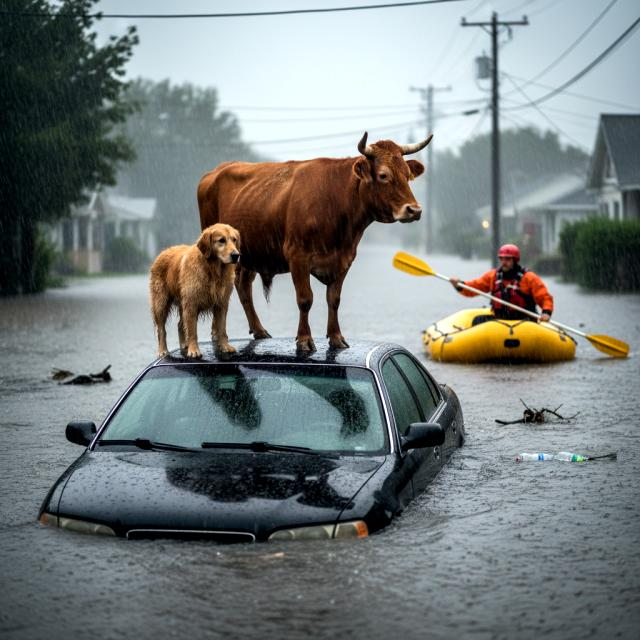cow: (188, 128, 434, 358)
dog: (141, 220, 253, 364)
rescuer: (444, 231, 566, 336)
